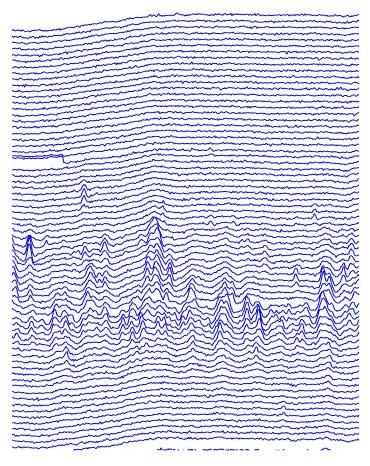defect: (49, 288, 74, 369), (211, 274, 237, 351), (82, 236, 109, 305), (141, 216, 161, 301), (316, 260, 337, 339), (181, 275, 201, 356), (241, 294, 264, 356), (116, 301, 136, 355), (17, 228, 39, 269), (268, 303, 289, 334), (162, 255, 176, 299), (296, 304, 312, 339), (25, 312, 38, 349), (346, 228, 358, 268), (19, 280, 38, 305), (149, 307, 164, 336), (309, 200, 322, 225), (290, 264, 303, 284), (80, 180, 89, 207), (338, 262, 347, 285)
